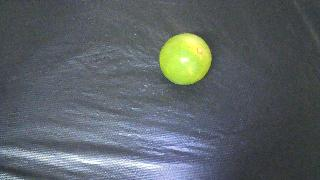LOCAL: (160, 33, 211, 85)
